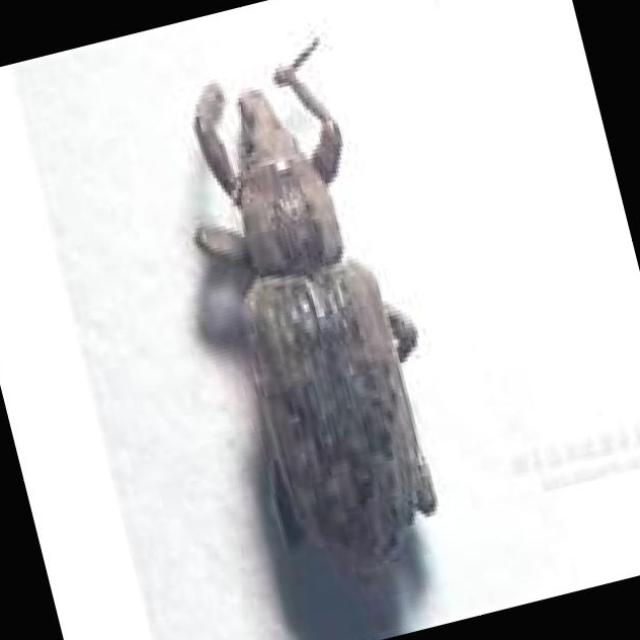ricebug: (194, 43, 435, 578)
